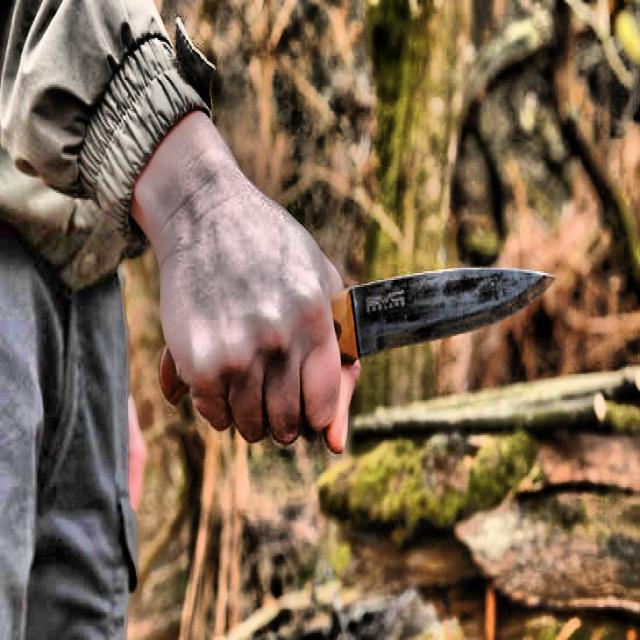knife: (161, 266, 554, 402)
